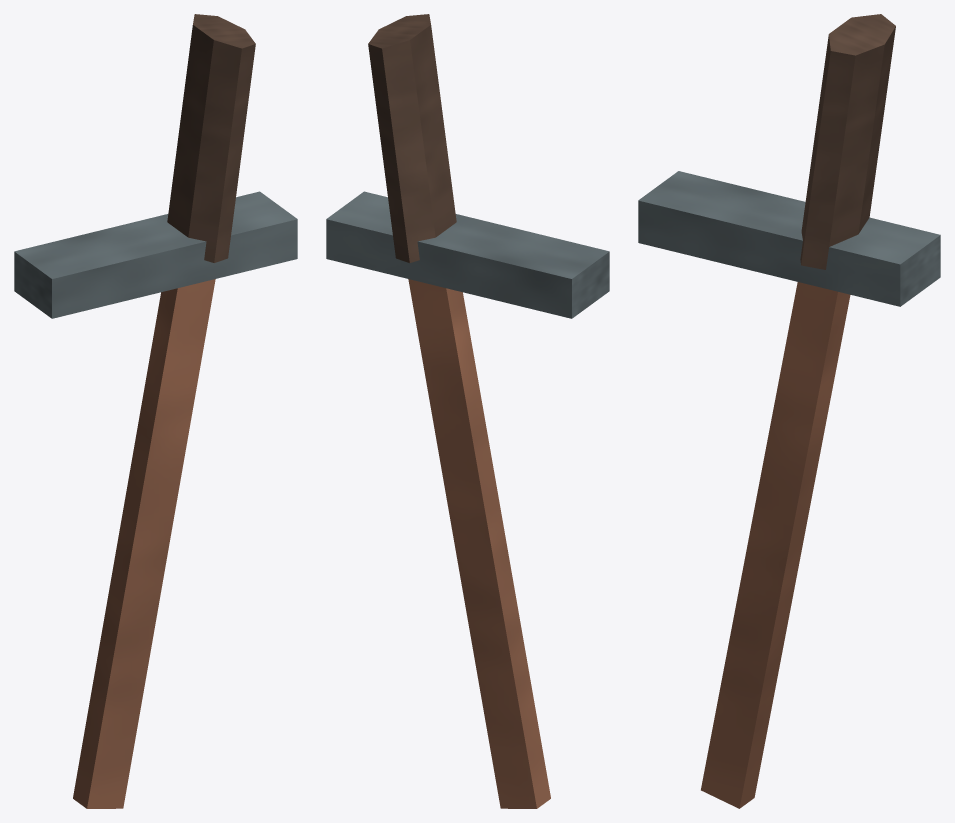
Rendered from rusty_sword_stuck.fbx.
3 renders of one model, left to right at view 1: azimuth 30°, elevation 25°; view 2: azimuth 150°, elevation 25°; view 3: azimuth 330°, elevation 25°, orthographic. The views are drawn at different scales.
Parts seen in each view (by area): view 1: rusty_sword_stuck; view 2: rusty_sword_stuck; view 3: rusty_sword_stuck.
Part boxes in pixels (box(x1,y1,x2,y2)): rusty_sword_stuck: box(14, 14, 297, 808); rusty_sword_stuck: box(326, 14, 609, 808); rusty_sword_stuck: box(638, 14, 940, 808).
Bounding box in the file's own units: 48 × 140 × 16.
Materials: 1 (1 with a texture image).
